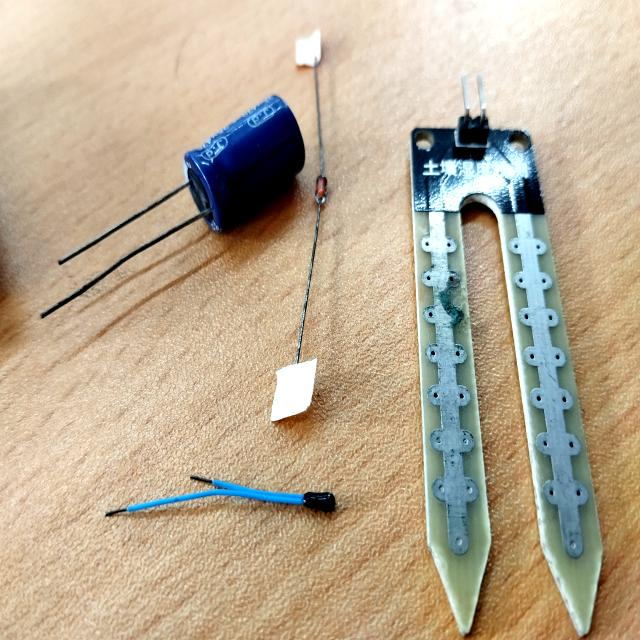capacitor: (188, 103, 305, 259)
